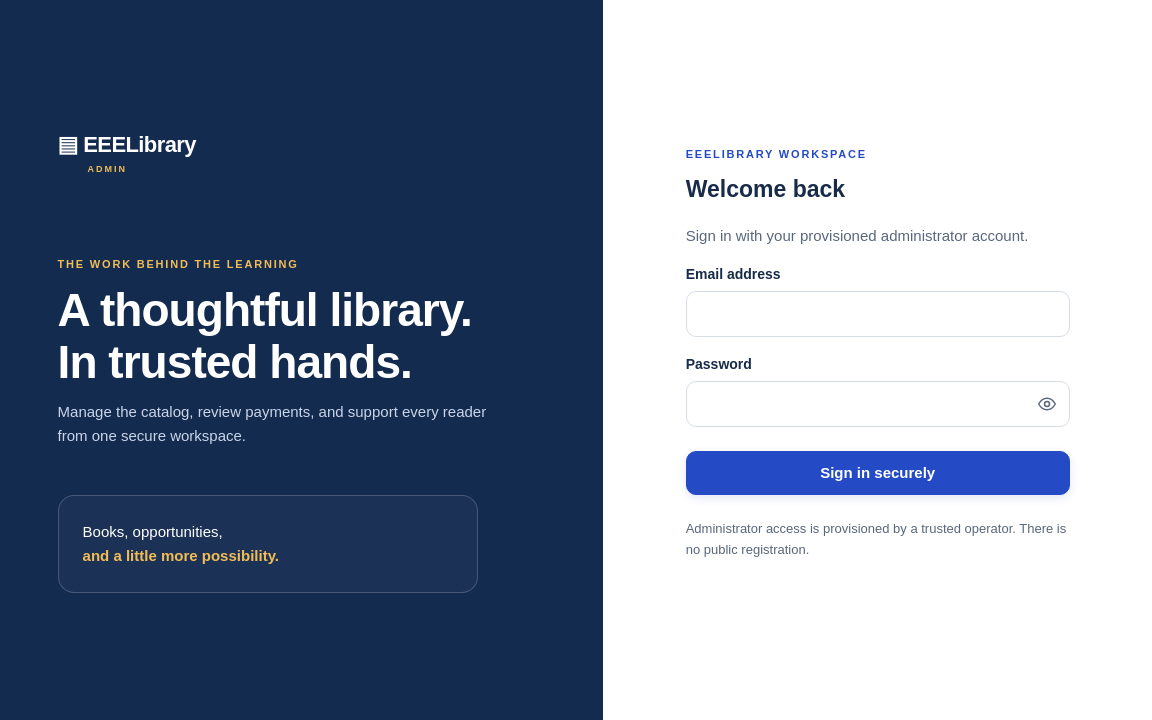
Scenario: admin login feedback and password accessibility › Firebase credential failure shows one alert without checking admin access
Type "admin@example.test" into the field labelled "Email address" at [878, 314], box [686, 291, 1070, 337]
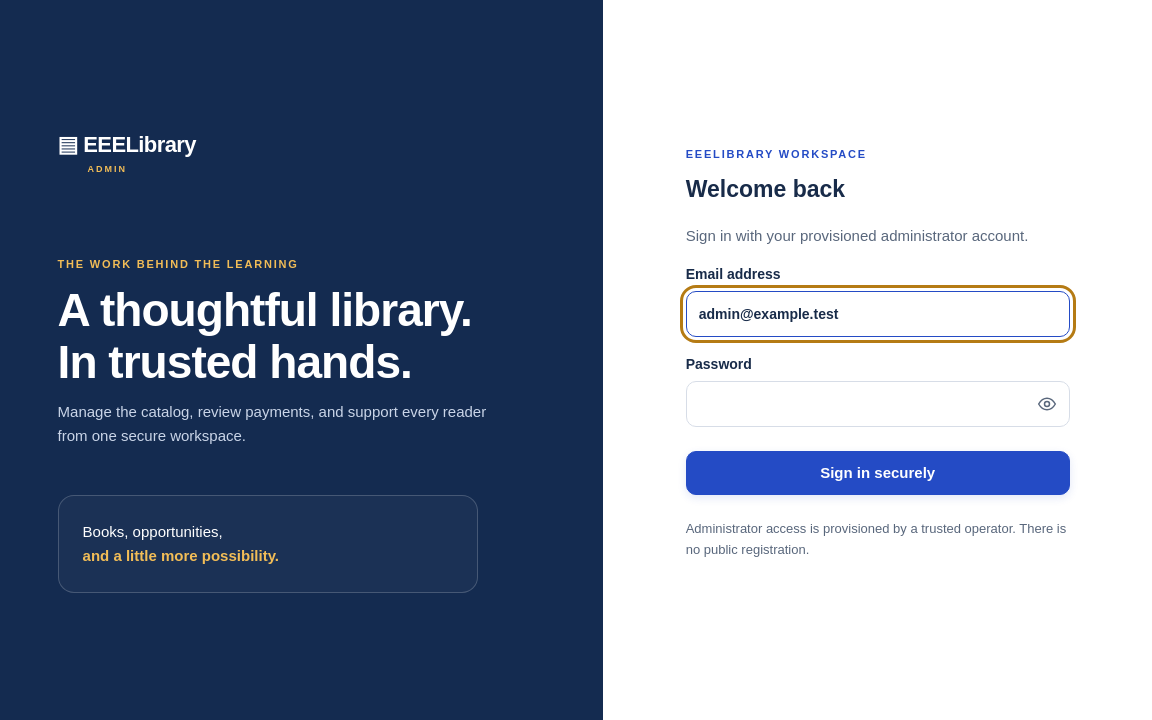
Type "private-fixture-password" into the password field labelled "Password" at [878, 404], box [686, 381, 1070, 427]
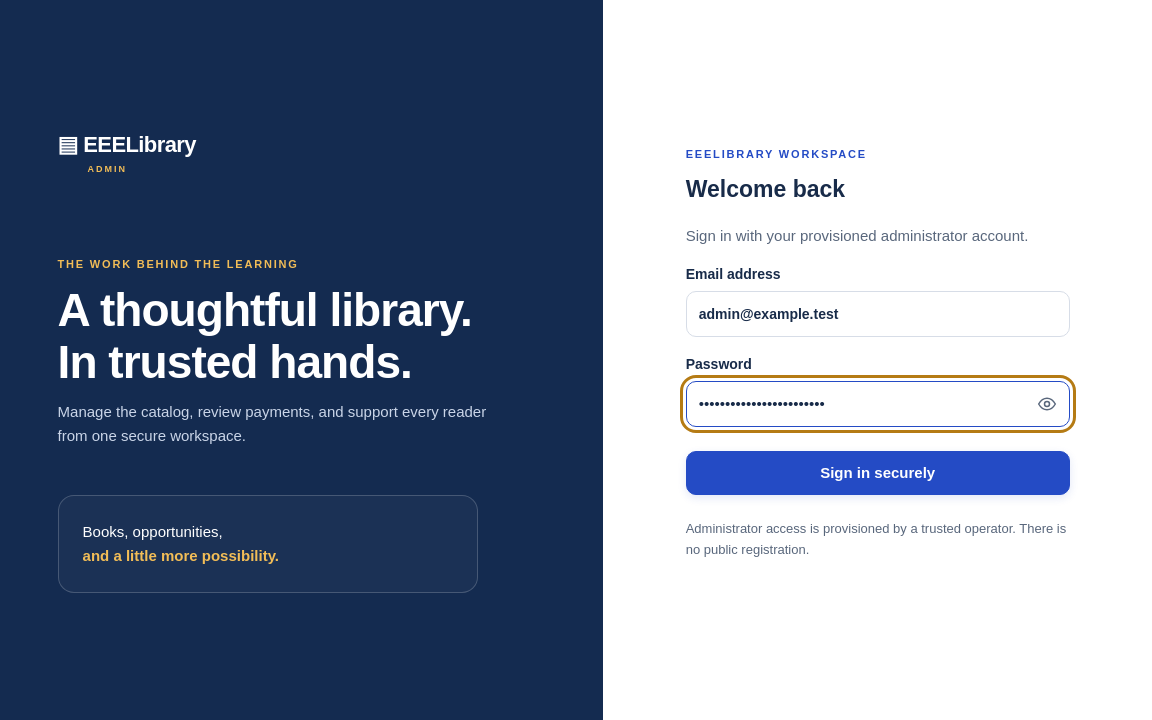
Click the button "Sign in securely" at [878, 473], box [686, 451, 1070, 495]
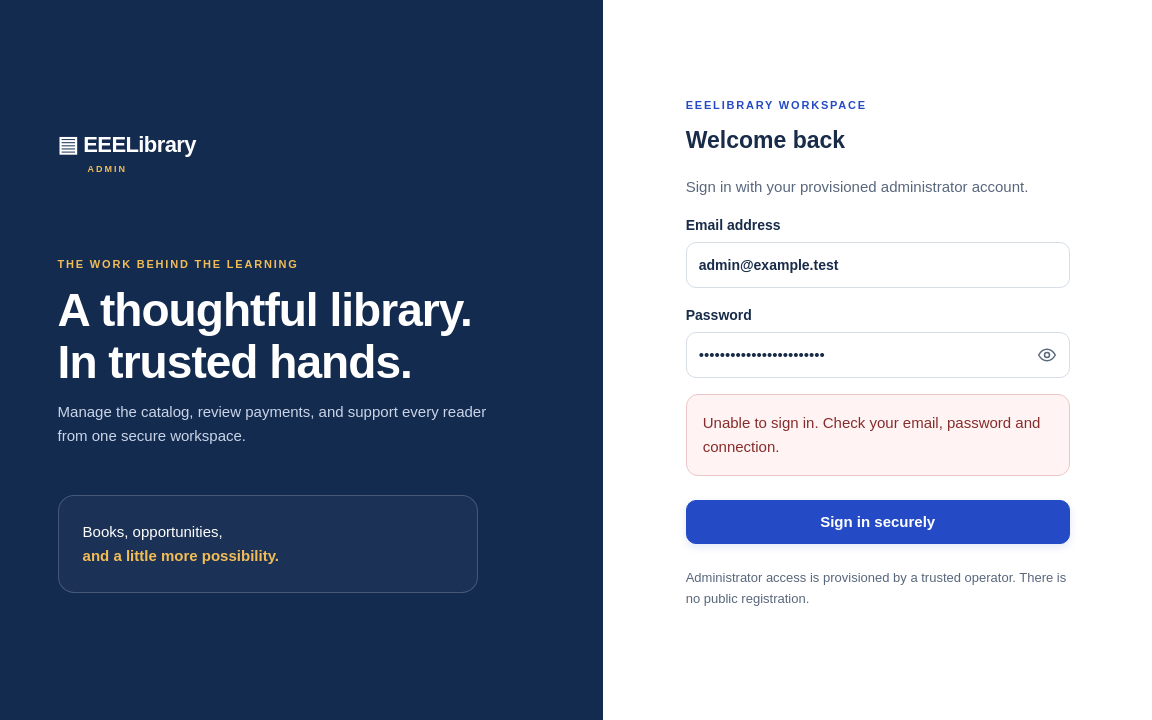
Now the message shows "Unable to sign in", box [703, 414, 1040, 455]
Now the number of messages is 1, box [686, 394, 1070, 476]
